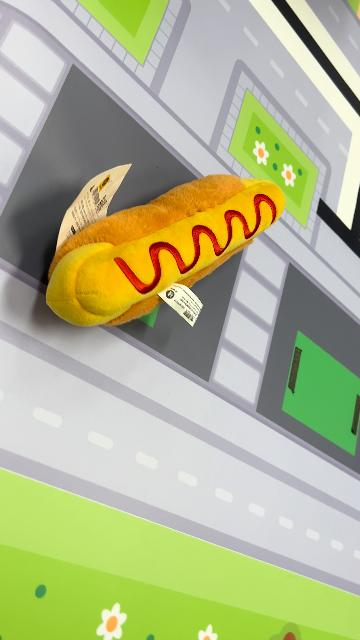hotdog: (45, 172, 287, 330)
